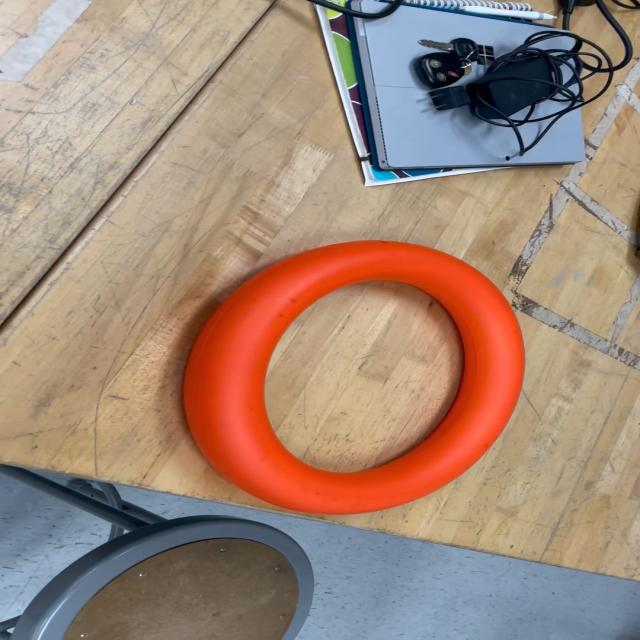note: (180, 235, 523, 509)
